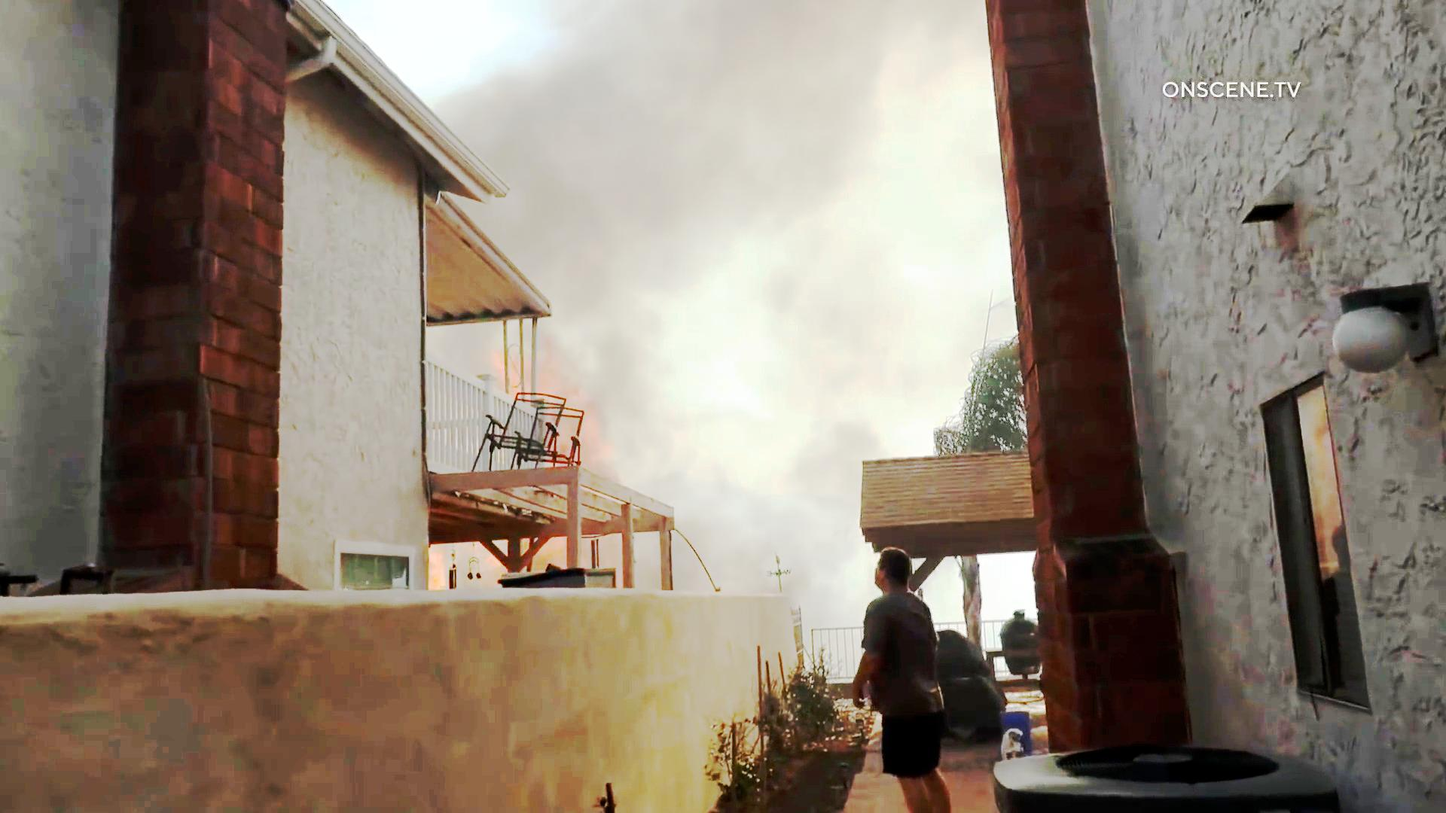fire: (501, 349, 578, 401)
smoke: (464, 0, 978, 136), (503, 134, 977, 273)
